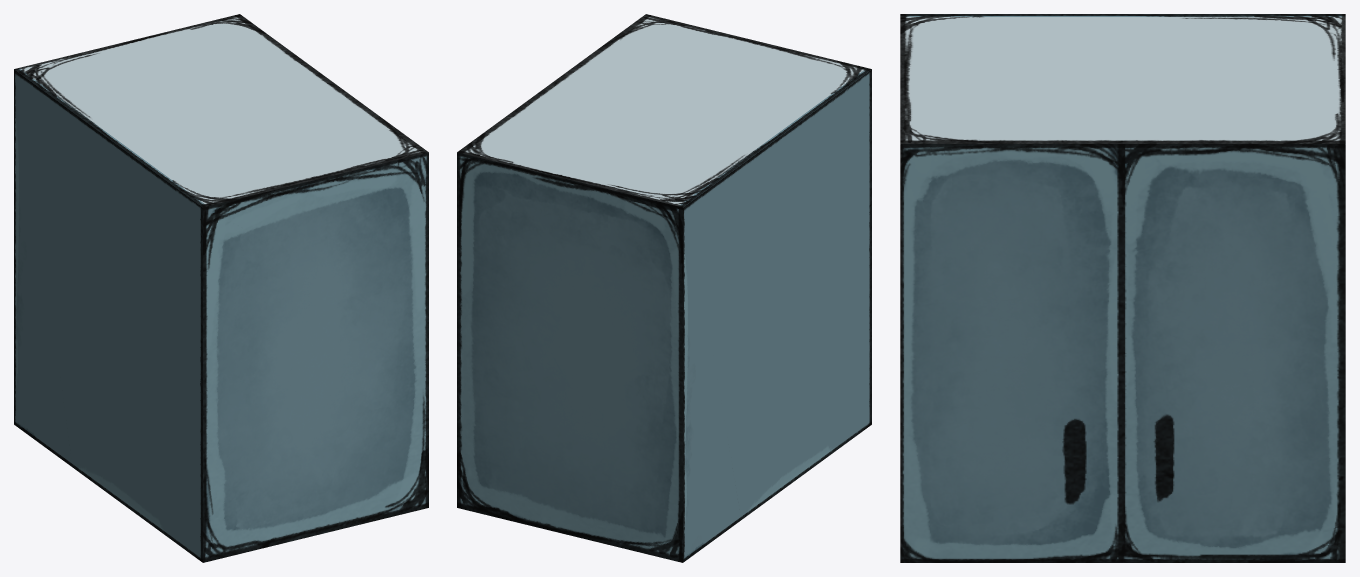
Rendered from kitchen_cupboard.fbx.
The picture shows the model from 3 angles, left to right: view 1: azimuth 30°, elevation 25°; view 2: azimuth 150°, elevation 25°; view 3: azimuth 270°, elevation 25°; orthographic projection. The views are drawn at different scales.
Parts seen in each view (by area): view 1: Cube.003; view 2: Cube.003; view 3: Cube.003.
Boxes of the visible parts, <box> form: Cube.003: <box>14,14,428,562</box>; Cube.003: <box>457,14,871,562</box>; Cube.003: <box>900,14,1345,562</box>.
Size of the model in its own units: 0.6152 by 0.9253 by 0.8917.
1 material, 1 textured.
